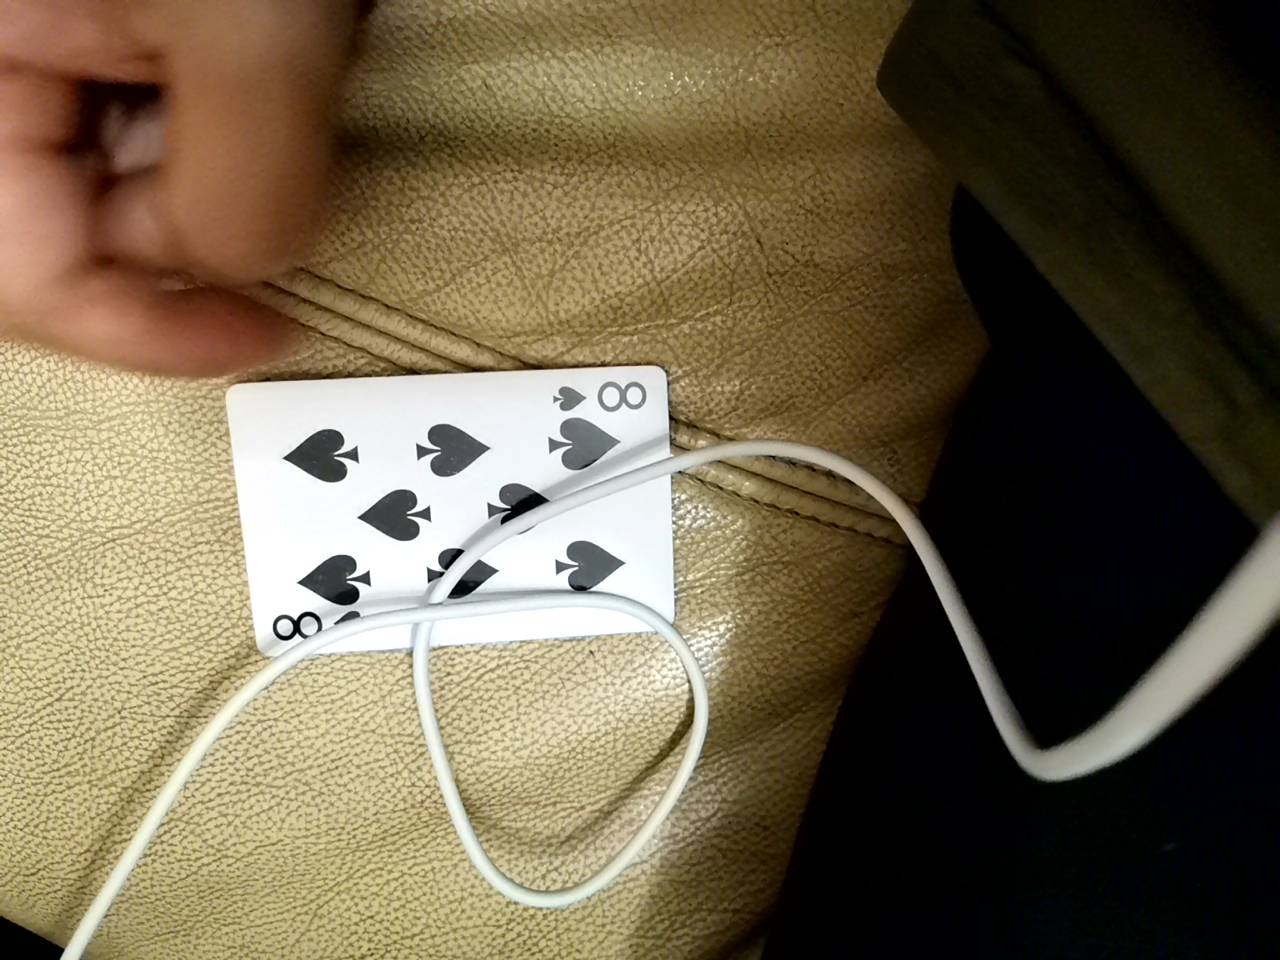ht 8: (197, 373, 684, 657)
